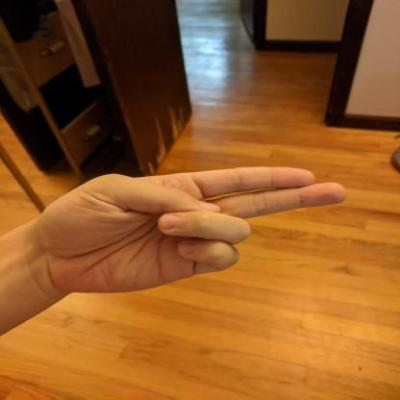hand: (34, 162, 354, 298)
